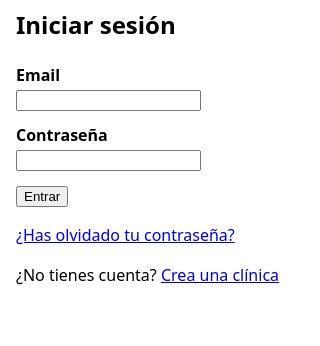
Test case: LoginForm › muestra el error del backend con credenciales incorrectas
Type "admin@dev.local" into the field labelled "Email".
click(108, 100); type("admin@dev.local")  # box [16,90,201,111]
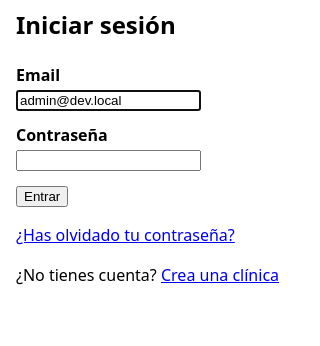
Type "incorrecta" into the password field labelled "Contraseña".
click(108, 160); type("incorrecta")  # box [16,150,201,171]
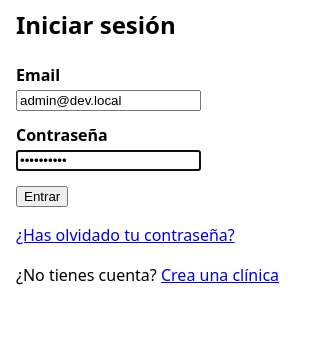
Click the button "Entrar".
click(42, 196)  # box [16,186,68,207]
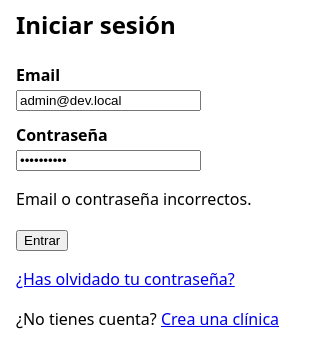
Expected: the message reads "Email o contraseña incorrectos.", [16,188,252,210]
